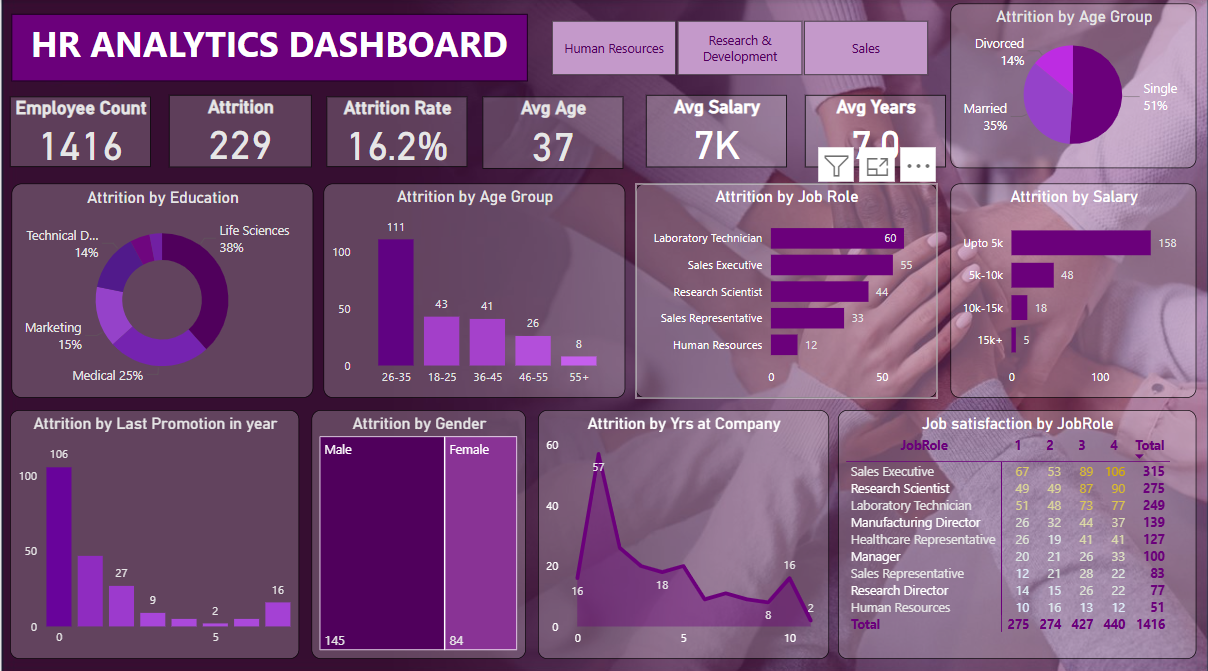

Layout of this report page (visuals, bound fields, positions):
{"tool":"powerbi","page":{"name":"Dashboard","canvas":[1280,720],"ordinal":0},"visuals":[{"type":"card","title":"Employee Count","fields":{"Values":["CountNonNull(HR_Analytics.EmployeeCount)"]},"box":[10.3,102.8,149.5,74.8],"z":0},{"type":"card","title":"Attrition","fields":{"Values":["Sum(HR_Analytics.Attrition Count)"]},"box":[178.9,101.2,151.1,76.3],"z":1000},{"type":"card","title":"Attrition Rate","fields":{"Values":["HR_Analytics.AttritionRate"]},"box":[345.9,102.8,149.5,74.8],"z":2000},{"type":"card","title":"Avg Age","fields":{"Values":["Avg(HR_Analytics.Age)"]},"box":[511.4,102.8,149.5,76.3],"z":3000},{"type":"card","title":"Avg Years","fields":{"Values":["Avg(HR_Analytics.YearsAtCompany)"]},"box":[853.3,101.2,149.5,76.3],"z":4000},{"type":"card","title":"Avg Salary","fields":{"Values":["Avg(HR_Analytics.MonthlyIncome)"]},"box":[684.7,101.2,149.5,76.3],"z":5000},{"type":"donutChart","title":"Attrition by Education","fields":{"Category":["HR_Analytics.EducationField"],"Y":["Sum(HR_Analytics.Attrition Count)"]},"box":[11.1,195.6,319.7,227.5],"z":6000},{"type":"clusteredColumnChart","title":"Attrition by Age Group","fields":{"Category":["HR_Analytics.AgeGroup"],"Y":["Sum(HR_Analytics.Attrition Count)"]},"box":[342,195.6,319.7,227.5],"z":7000},{"type":"pivotTable","title":"Job satisfaction by JobRole","fields":{"Rows":["HR_Analytics.JobRole"],"Columns":["HR_Analytics.JobSatisfaction"],"Values":["CountNonNull(HR_Analytics.JobSatisfaction)"]},"box":[887.6,435.8,380.2,264],"z":8000},{"type":"clusteredBarChart","title":"Attrition by Job Role","fields":{"Category":["HR_Analytics.JobRole"],"Y":["Sum(HR_Analytics.Attrition Count)"]},"box":[672.8,195.6,319.7,227.5],"z":9000},{"type":"clusteredBarChart","title":"Attrition by Salary","fields":{"Category":["HR_Analytics.SalarySlab"],"Y":["Sum(HR_Analytics.Attrition Count)"]},"box":[1006.9,195.6,260.9,227.5],"z":10000},{"type":"textbox","box":[10.6,15.9,547.2,71.6],"z":11000},{"type":"areaChart","title":"Attrition by Yrs at Company","fields":{"Category":["HR_Analytics.YearsAtCompany"],"Y":["Sum(HR_Analytics.Attrition Count)"]},"box":[569.4,435.8,308.6,264],"z":12000},{"type":"treemap","title":"Attrition by Gender","fields":{"Group":["HR_Analytics.Gender"],"Values":["Sum(HR_Analytics.Attrition Count)"]},"box":[329.3,435.8,227.5,264],"z":13000},{"type":"slicer","fields":{"Values":["HR_Analytics.Department"]},"box":[558.3,15.9,448.6,71.6],"z":14000},{"type":"clusteredColumnChart","title":"Attrition by Last Promotion in year","fields":{"Category":["HR_Analytics.YearsSinceLastPromotion"],"Y":["Sum(HR_Analytics.Attrition Count)"]},"box":[9.5,435.8,307,264],"z":15000},{"type":"pieChart","title":"Attrition by Age Group","fields":{"Category":["HR_Analytics.MaritalStatus"],"Y":["Sum(HR_Analytics.Attrition Count)"]},"box":[1006.9,4.8,260.9,175],"z":16000}]}

Visuals, with their boxes in screenshot pixels (x1, y1, x2, y2), scaled from the page's 1280x720 canvas onto the 1208x671 screenshot:
"Employee Count" card: Rect(10, 96, 151, 166)
"Attrition" card: Rect(169, 94, 311, 165)
"Attrition Rate" card: Rect(326, 96, 468, 166)
"Avg Age" card: Rect(483, 96, 624, 167)
"Avg Years" card: Rect(805, 94, 946, 165)
"Avg Salary" card: Rect(646, 94, 787, 165)
"Attrition by Education" donutChart: Rect(10, 182, 312, 394)
"Attrition by Age Group" clusteredColumnChart: Rect(323, 182, 624, 394)
"Job satisfaction by JobRole" pivotTable: Rect(838, 406, 1196, 652)
"Attrition by Job Role" clusteredBarChart: Rect(635, 182, 937, 394)
"Attrition by Salary" clusteredBarChart: Rect(950, 182, 1196, 394)
textbox: Rect(10, 15, 526, 82)
"Attrition by Yrs at Company" areaChart: Rect(537, 406, 829, 652)
"Attrition by Gender" treemap: Rect(311, 406, 525, 652)
slicer - HR_Analytics.Department: Rect(527, 15, 950, 82)
"Attrition by Last Promotion in year" clusteredColumnChart: Rect(9, 406, 299, 652)
"Attrition by Age Group" pieChart: Rect(950, 4, 1196, 168)
